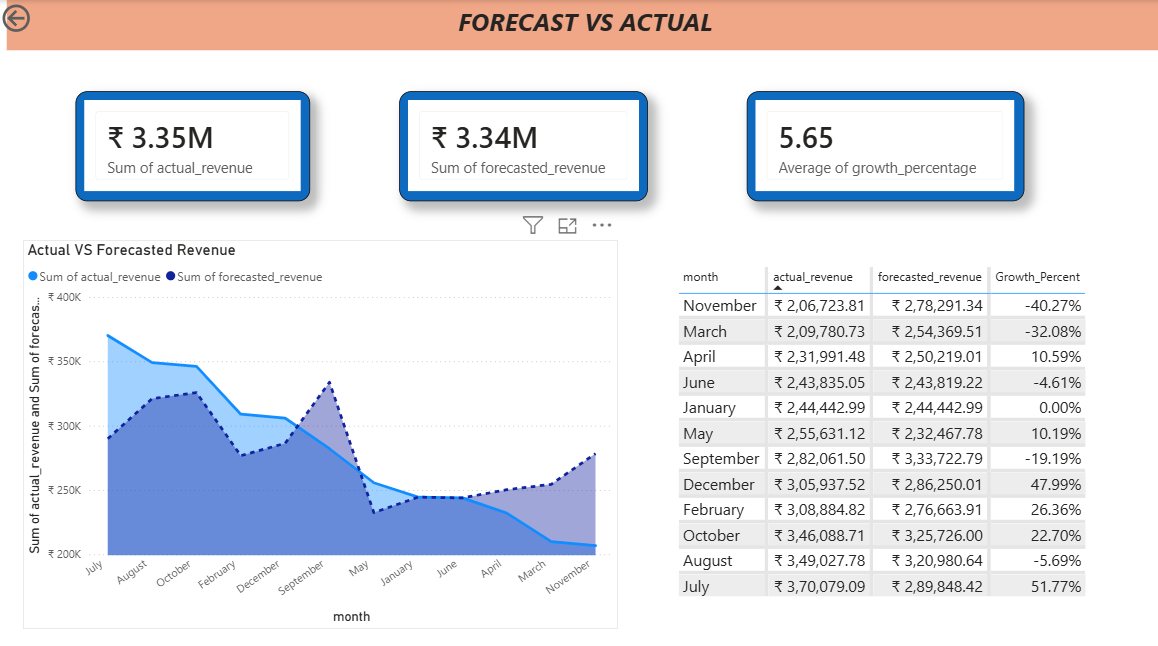

This screenshot's page, from the dashboard's own definition file:
{"tool":"powerbi","page":{"name":"Page 3","canvas":[1280,720],"ordinal":2},"visuals":[{"type":"textbox","box":[9.6,0,1270.7,54.9],"z":0},{"type":"lineChart","title":"Actual VS Forecasted Revenue","fields":{"Y":["Sum(forecasting_dataset.actual_revenue)","Sum(forecasting_dataset.forecasted_revenue)"],"Category":["forecasting_dataset.month"]},"box":[27.4,263.5,653.2,426.8],"z":1000},{"type":"cardVisual","fields":{"Data":["Sum(forecasting_dataset.actual_revenue)"]},"box":[85.1,100.2,258,120.8],"z":2000},{"type":"cardVisual","fields":{"Data":["Sum(forecasting_dataset.forecasted_revenue)"]},"box":[440.5,100.2,273.1,120.8],"z":3000},{"type":"tableEx","fields":{"Values":["forecasting_dataset.month","forecasting_dataset.actual_revenue","forecasting_dataset.forecasted_revenue","forecasting_dataset.Growth_Percent"]},"box":[741,288.2,466.6,373.2],"z":4000},{"type":"actionButton","box":[0,0,100,40],"z":5000},{"type":"cardVisual","fields":{"Data":["Avg(forecasting_dataset.growth_percentage)"]},"box":[822,100.2,304.6,120.8],"z":6000}]}

Visuals, with their boxes in screenshot pixels (x1, y1, x2, y2), scaled from the page's 1280x720 canvas onto the 1158x646 screenshot:
textbox: [9,0,1157,49]
"Actual VS Forecasted Revenue" lineChart: [25,236,616,619]
cardVisual - Sum(forecasting_dataset.actual_revenue): [77,90,310,198]
cardVisual - Sum(forecasting_dataset.forecasted_revenue): [399,90,646,198]
tableEx - forecasting_dataset.month x forecasting_dataset.actual_revenue: [670,259,1093,593]
actionButton: [0,0,90,36]
cardVisual - Avg(forecasting_dataset.growth_percentage): [744,90,1019,198]
